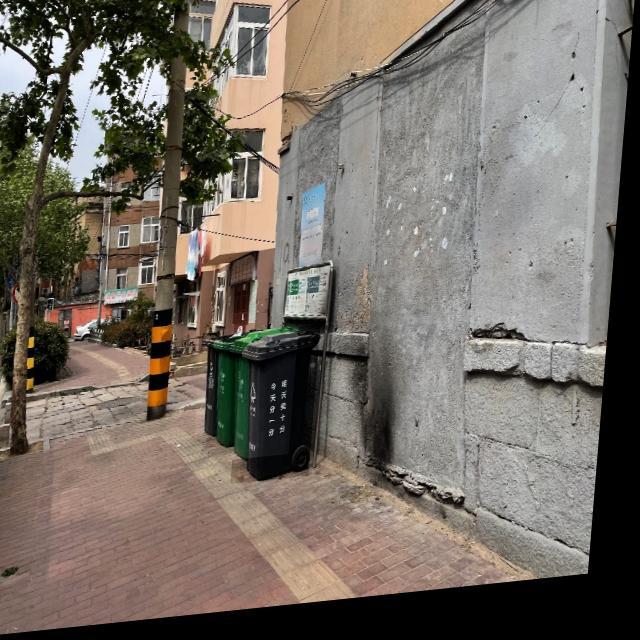garbage_bin: (239, 332, 327, 490), (228, 333, 305, 467), (214, 341, 250, 453), (201, 340, 230, 444)
